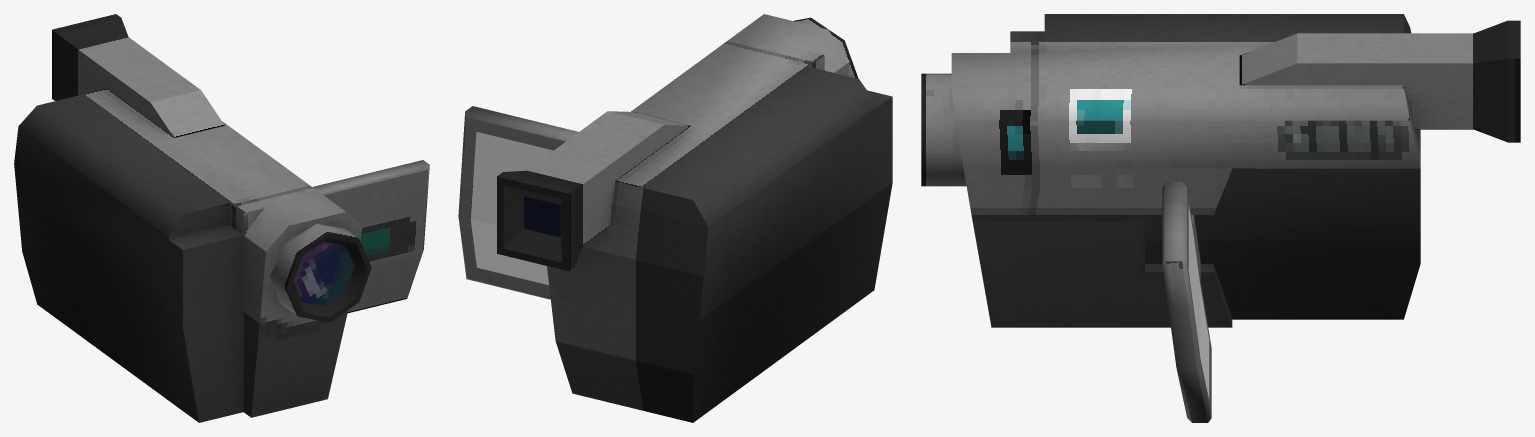
The model's file is camcorder.glb.
The picture shows the model from 3 angles, left to right: view 1: azimuth 30°, elevation 25°; view 2: azimuth 150°, elevation 25°; view 3: azimuth 270°, elevation 25°; orthographic projection. The views are drawn at different scales.
Visible parts, largest first — view 1: Camcorder, Viewscreen; view 2: Camcorder, Viewscreen; view 3: Camcorder, Viewscreen.
Part boxes in pixels (x1,y1,x2,y2): Camcorder: (14, 14, 371, 422); Viewscreen: (312, 160, 429, 313); Camcorder: (497, 14, 892, 422); Viewscreen: (458, 106, 578, 299); Camcorder: (921, 14, 1520, 327); Viewscreen: (1162, 182, 1211, 422).
Bounding box in the file's own units: 0.2629 × 0.1812 × 0.3611.
2 materials, 1 textured.
